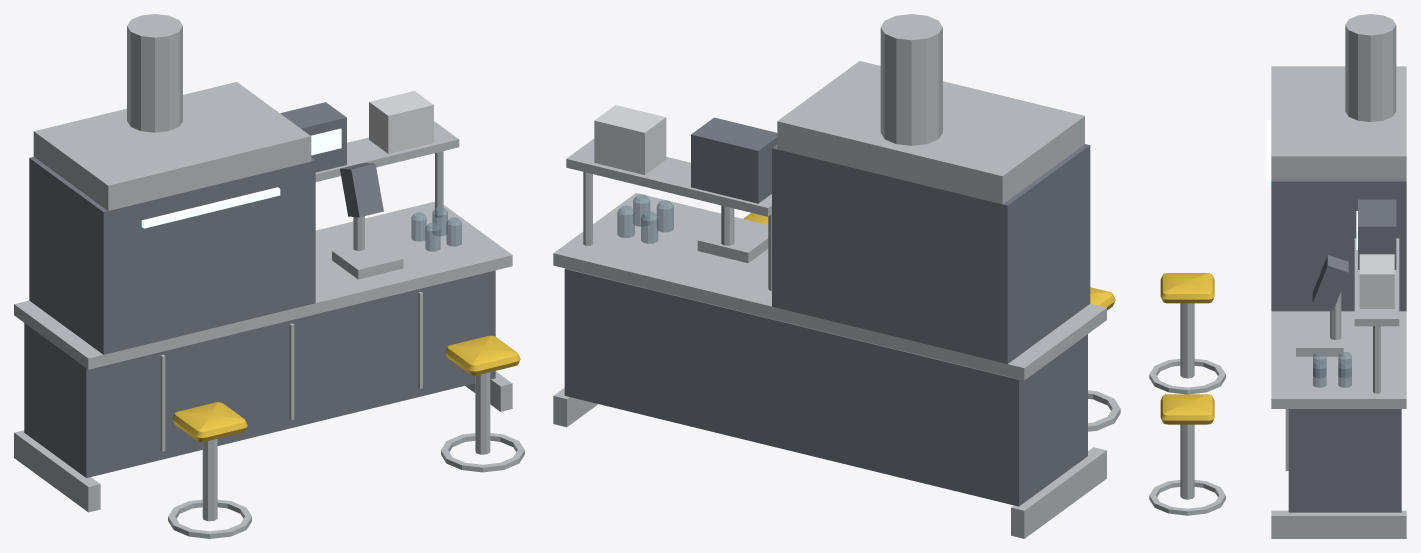
File: ufo-crash-site-and-recovery-facility-analysis-bench-bac5de64__17365.glb
3 views of the same model, side by side, from view 1: azimuth 30°, elevation 25°; view 2: azimuth 150°, elevation 25°; view 3: azimuth 270°, elevation 25° (orthographic). The views are drawn at different scales.
Visible parts, largest first — view 1: analysis-bench; view 2: analysis-bench; view 3: analysis-bench.
Part boxes in pixels (box(x1,y1,x2,y2)): analysis-bench: box(14, 14, 524, 538); analysis-bench: box(553, 14, 1120, 538); analysis-bench: box(1149, 14, 1406, 538).
Size of the model in its own units: 2.8 by 2.63 by 1.61.
